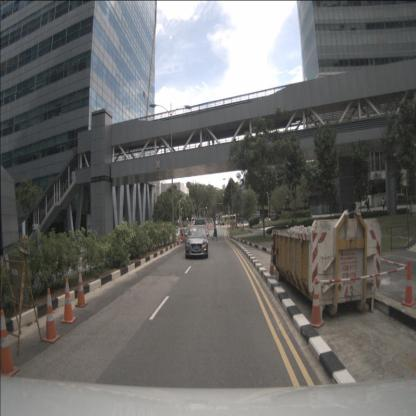human-pedestrian-adult: (212, 221, 218, 241), (366, 198, 370, 214), (201, 221, 205, 237), (382, 196, 386, 212), (218, 219, 220, 228), (220, 219, 221, 227)
movable_object-trafficcone: (0, 309, 19, 384), (42, 287, 60, 343), (308, 278, 325, 328), (61, 278, 77, 324), (401, 260, 415, 309), (75, 270, 88, 308), (268, 249, 276, 276)
vehicle-bus-rigid: (221, 214, 236, 226)
vehicle-car: (185, 224, 208, 258)
vehicle-truck: (191, 217, 205, 226)
